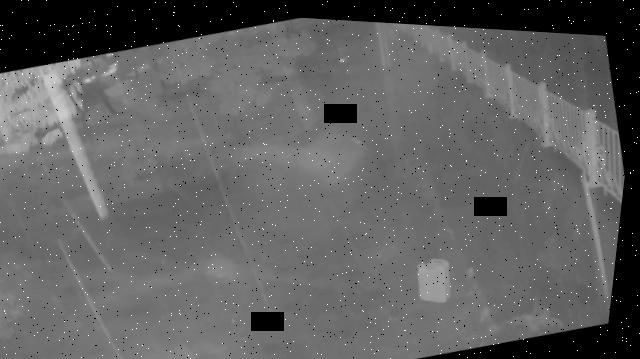bag: (415, 248, 465, 301)
